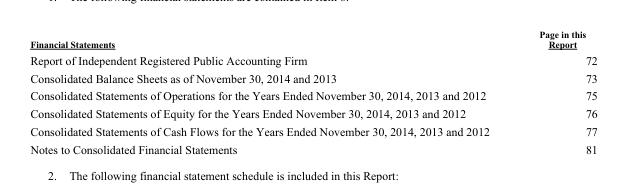table: (29, 28, 596, 155)
table column: (29, 28, 513, 155), (513, 28, 596, 155)
table column header: (29, 28, 596, 51)
table row: (29, 28, 596, 51), (29, 68, 596, 86), (29, 86, 596, 104), (29, 104, 596, 122), (29, 51, 596, 68), (29, 122, 596, 139), (29, 139, 596, 155)
